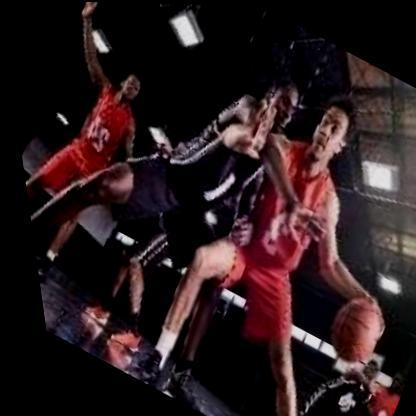basketball: (302, 283, 390, 370)
